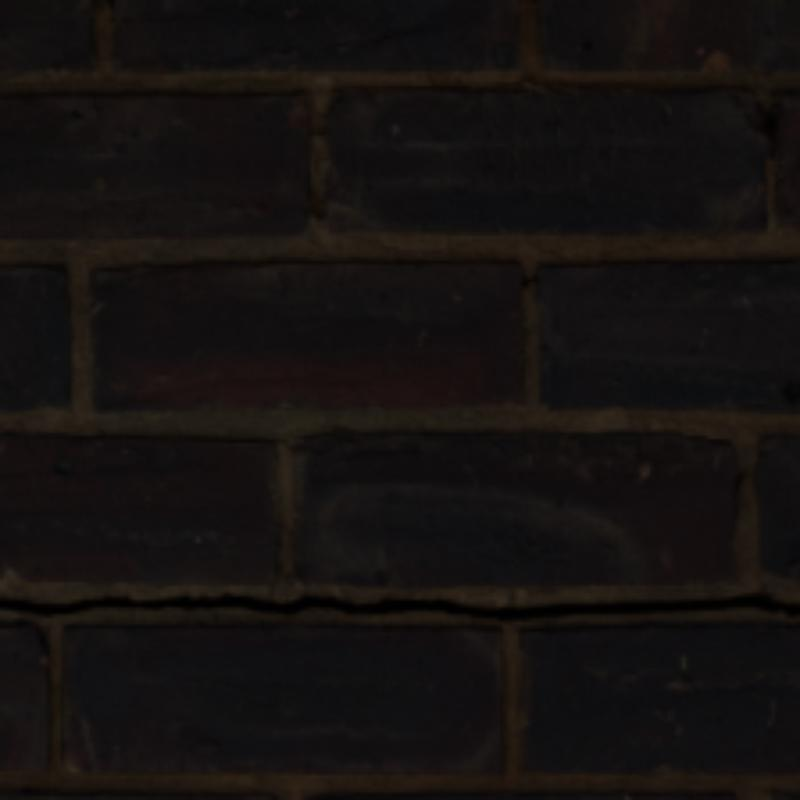pothole: (0, 593, 796, 618)
